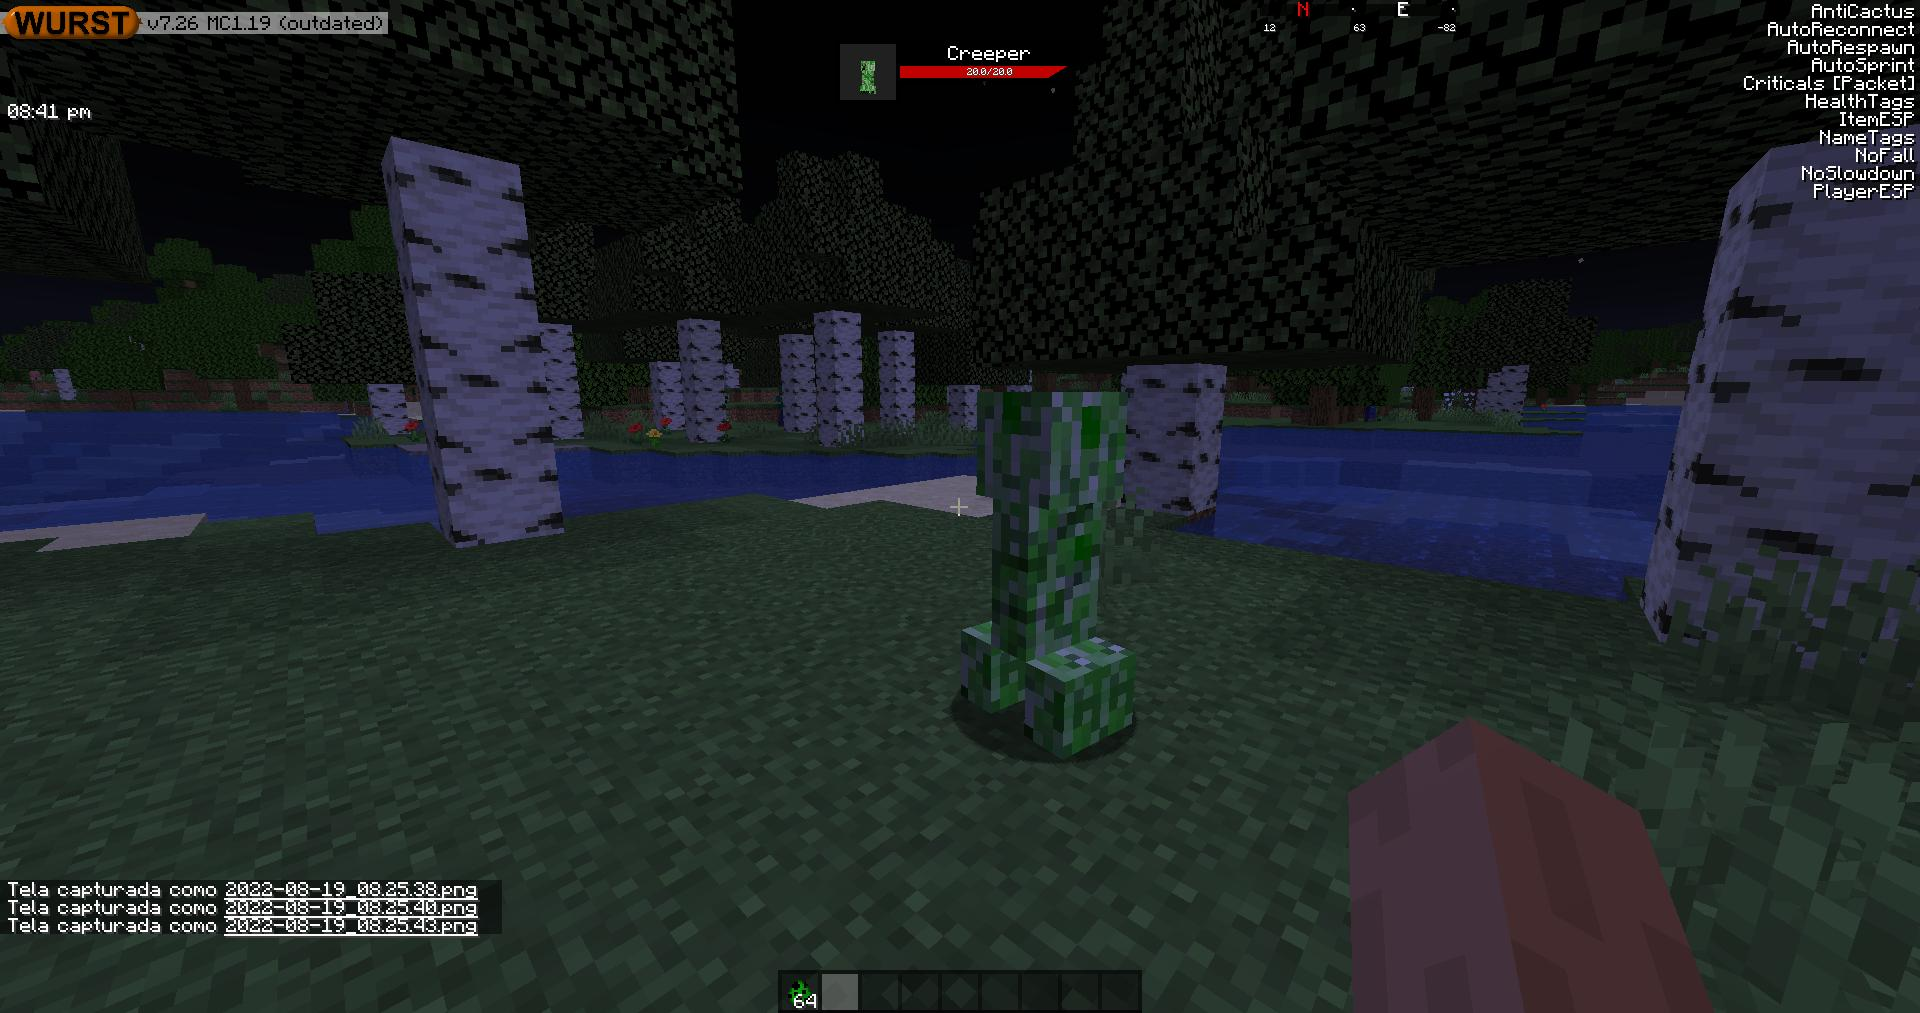creeper: (969, 390, 1134, 748)
